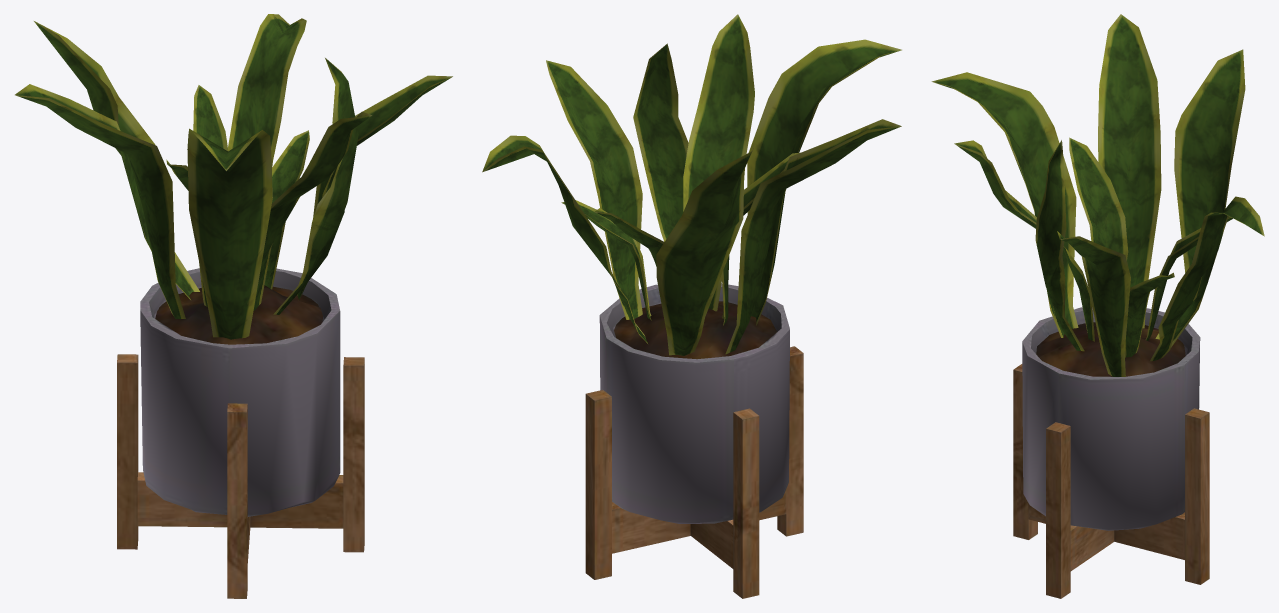
File: plant-broadleaf.glb
3 renders of one model, left to right at view 1: azimuth 30°, elevation 25°; view 2: azimuth 150°, elevation 25°; view 3: azimuth 270°, elevation 25°, orthographic. The views are drawn at different scales.
Visible parts, largest first — view 1: Circle.002, Exotic Plant Leaf__Diffuse_Map.001_Exotic Plant Leaf__Diffus, Plane.003, Exotic Plant Leaf__Diffuse_Map.010_Exotic Plant Leaf__Diffus, Exotic Plant Leaf__Diffuse_Map.004_Exotic Plant Leaf__Diffus, Plane.004, Exotic Plant Leaf__Diffuse_Map.003_Exotic Plant Leaf__Diffus, Exotic Plant Leaf__Diffuse_Map.002_Exotic Plant Leaf__Diffus, Exotic Plant Leaf__Diffuse_Map.005_Exotic Plant Leaf__Diffus, Exotic Plant Leaf__Diffuse_Map.009_Exotic Plant Leaf__Diffus, Exotic Plant Leaf__Diffuse_Map.011_Exotic Plant Leaf__Diffus, Exotic Plant Leaf__Diffuse_Map.012_Exotic Plant Leaf__Diffus; view 2: Circle.002, Plane.003, Exotic Plant Leaf__Diffuse_Map.003_Exotic Plant Leaf__Diffus, Exotic Plant Leaf__Diffuse_Map.001_Exotic Plant Leaf__Diffus, Exotic Plant Leaf__Diffuse_Map.009_Exotic Plant Leaf__Diffus, Exotic Plant Leaf__Diffuse_Map.005_Exotic Plant Leaf__Diffus, Exotic Plant Leaf__Diffuse_Map.002_Exotic Plant Leaf__Diffus, Exotic Plant Leaf__Diffuse_Map.010_Exotic Plant Leaf__Diffus, Plane.004, Exotic Plant Leaf__Diffuse_Map.004_Exotic Plant Leaf__Diffus, Exotic Plant Leaf__Diffuse_Map.011_Exotic Plant Leaf__Diffus, Exotic Plant Leaf__Diffuse_Map.006_Exotic Plant Leaf__Diffus (+1 smaller); view 3: Circle.002, Exotic Plant Leaf__Diffuse_Map.010_Exotic Plant Leaf__Diffus, Plane.003, Exotic Plant Leaf__Diffuse_Map.003_Exotic Plant Leaf__Diffus, Exotic Plant Leaf__Diffuse_Map.001_Exotic Plant Leaf__Diffus, Exotic Plant Leaf__Diffuse_Map.009_Exotic Plant Leaf__Diffus, Exotic Plant Leaf__Diffuse_Map.002_Exotic Plant Leaf__Diffus, Exotic Plant Leaf__Diffuse_Map.004_Exotic Plant Leaf__Diffus, Exotic Plant Leaf__Diffuse_Map.006_Exotic Plant Leaf__Diffus, Plane.004, Exotic Plant Leaf__Diffuse_Map.005_Exotic Plant Leaf__Diffus, Exotic Plant Leaf__Diffuse_Map.011_Exotic Plant Leaf__Diffus (+1 smaller).
Boxes of the visible parts, box(x1,y1,x2,y2) form: Circle.002: box(140, 268, 340, 516); Exotic Plant Leaf__Diffuse_Map.001_Exotic Plant Leaf__Diffus: box(187, 128, 272, 339); Plane.003: box(117, 354, 364, 598); Exotic Plant Leaf__Diffuse_Map.010_Exotic Plant Leaf__Diffus: box(15, 84, 185, 318); Exotic Plant Leaf__Diffuse_Map.004_Exotic Plant Leaf__Diffus: box(228, 14, 306, 167); Plane.004: box(137, 472, 343, 562); Exotic Plant Leaf__Diffuse_Map.003_Exotic Plant Leaf__Diffus: box(34, 21, 199, 299); Exotic Plant Leaf__Diffuse_Map.002_Exotic Plant Leaf__Diffus: box(273, 58, 358, 314); Exotic Plant Leaf__Diffuse_Map.005_Exotic Plant Leaf__Diffus: box(253, 111, 371, 310); Exotic Plant Leaf__Diffuse_Map.009_Exotic Plant Leaf__Diffus: box(297, 75, 452, 300); Exotic Plant Leaf__Diffuse_Map.011_Exotic Plant Leaf__Diffus: box(264, 130, 309, 289); Exotic Plant Leaf__Diffuse_Map.012_Exotic Plant Leaf__Diffus: box(193, 85, 228, 150); Circle.002: box(599, 283, 789, 523); Plane.003: box(585, 346, 803, 598); Exotic Plant Leaf__Diffuse_Map.003_Exotic Plant Leaf__Diffus: box(656, 148, 753, 355); Exotic Plant Leaf__Diffuse_Map.001_Exotic Plant Leaf__Diffus: box(747, 39, 901, 325); Exotic Plant Leaf__Diffuse_Map.009_Exotic Plant Leaf__Diffus: box(546, 60, 642, 319); Exotic Plant Leaf__Diffuse_Map.005_Exotic Plant Leaf__Diffus: box(683, 14, 754, 311); Exotic Plant Leaf__Diffuse_Map.002_Exotic Plant Leaf__Diffus: box(633, 43, 688, 241); Exotic Plant Leaf__Diffuse_Map.010_Exotic Plant Leaf__Diffus: box(725, 119, 901, 354); Plane.004: box(612, 489, 786, 569); Exotic Plant Leaf__Diffuse_Map.004_Exotic Plant Leaf__Diffus: box(482, 135, 647, 343); Exotic Plant Leaf__Diffuse_Map.011_Exotic Plant Leaf__Diffus: box(561, 200, 651, 320); Exotic Plant Leaf__Diffuse_Map.006_Exotic Plant Leaf__Diffus: box(721, 152, 800, 325); Circle.002: box(1022, 307, 1200, 530); Exotic Plant Leaf__Diffuse_Map.010_Exotic Plant Leaf__Diffus: box(1098, 14, 1161, 328); Plane.003: box(1013, 364, 1209, 598); Exotic Plant Leaf__Diffuse_Map.003_Exotic Plant Leaf__Diffus: box(1155, 49, 1245, 347); Exotic Plant Leaf__Diffuse_Map.001_Exotic Plant Leaf__Diffus: box(931, 72, 1078, 337); Exotic Plant Leaf__Diffuse_Map.009_Exotic Plant Leaf__Diffus: box(1057, 231, 1130, 376); Exotic Plant Leaf__Diffuse_Map.002_Exotic Plant Leaf__Diffus: box(1035, 140, 1084, 351); Exotic Plant Leaf__Diffuse_Map.004_Exotic Plant Leaf__Diffus: box(1150, 196, 1264, 361); Exotic Plant Leaf__Diffuse_Map.006_Exotic Plant Leaf__Diffus: box(1069, 137, 1128, 260); Plane.004: box(1028, 504, 1184, 571); Exotic Plant Leaf__Diffuse_Map.005_Exotic Plant Leaf__Diffus: box(954, 140, 1094, 341); Exotic Plant Leaf__Diffuse_Map.011_Exotic Plant Leaf__Diffus: box(1124, 272, 1174, 357).
Size of the model in its own units: 0.9086 by 1.08 by 0.7268.
5 materials, 5 textured.
